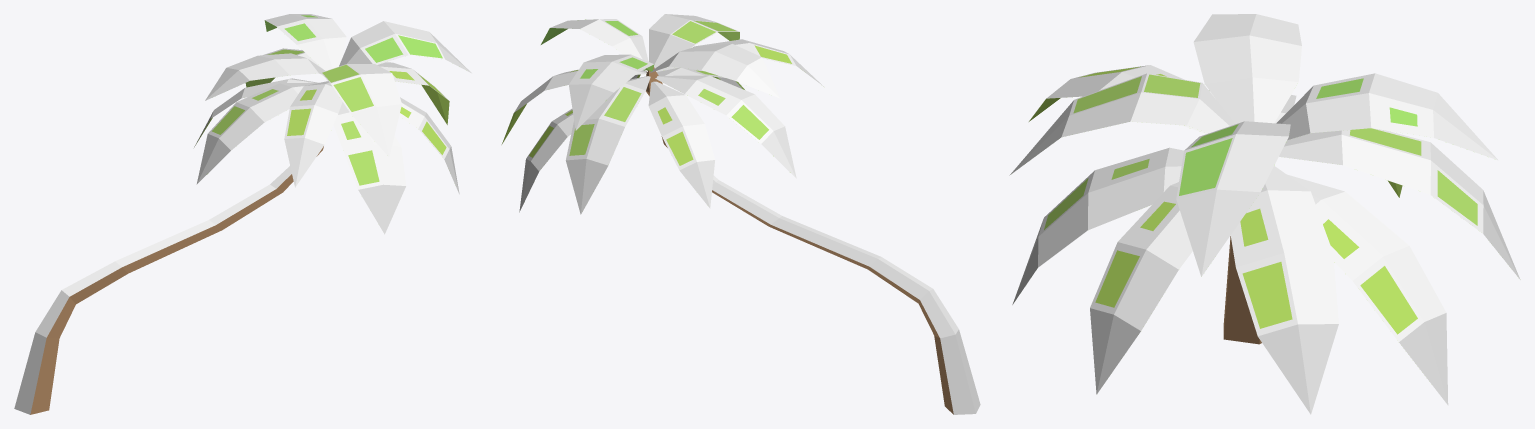
Rendered from Palm_Tree_l_Snow_05.fbx.
The picture shows the model from 3 angles, left to right: view 1: azimuth 30°, elevation 25°; view 2: azimuth 150°, elevation 25°; view 3: azimuth 270°, elevation 25°; orthographic projection. The views are drawn at different scales.
Visible parts, largest first — view 1: Palm_Tree_l_Snow_05; view 2: Palm_Tree_l_Snow_05; view 3: Palm_Tree_l_Snow_05.
Part boxes in pixels (box(x1,y1,x2,y2)): Palm_Tree_l_Snow_05: box(14, 14, 471, 414); Palm_Tree_l_Snow_05: box(501, 14, 980, 414); Palm_Tree_l_Snow_05: box(1009, 14, 1520, 414).
Bounding box in the file's own units: 762 × 470 × 434.
